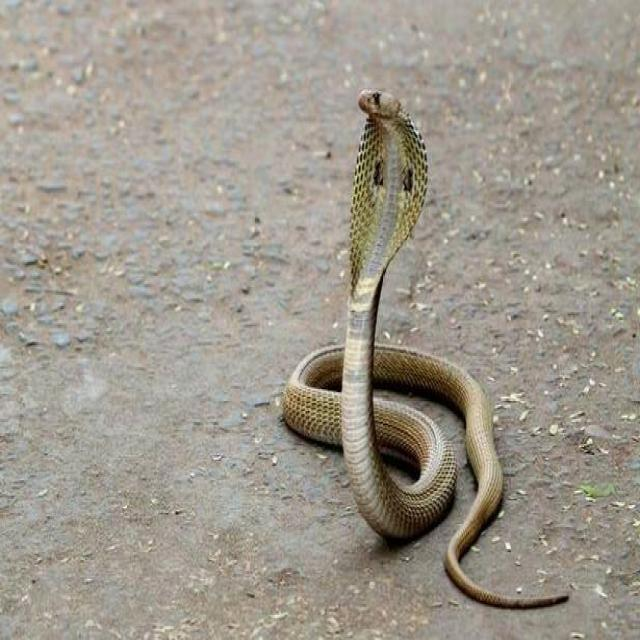snake: (283, 91, 567, 605)
